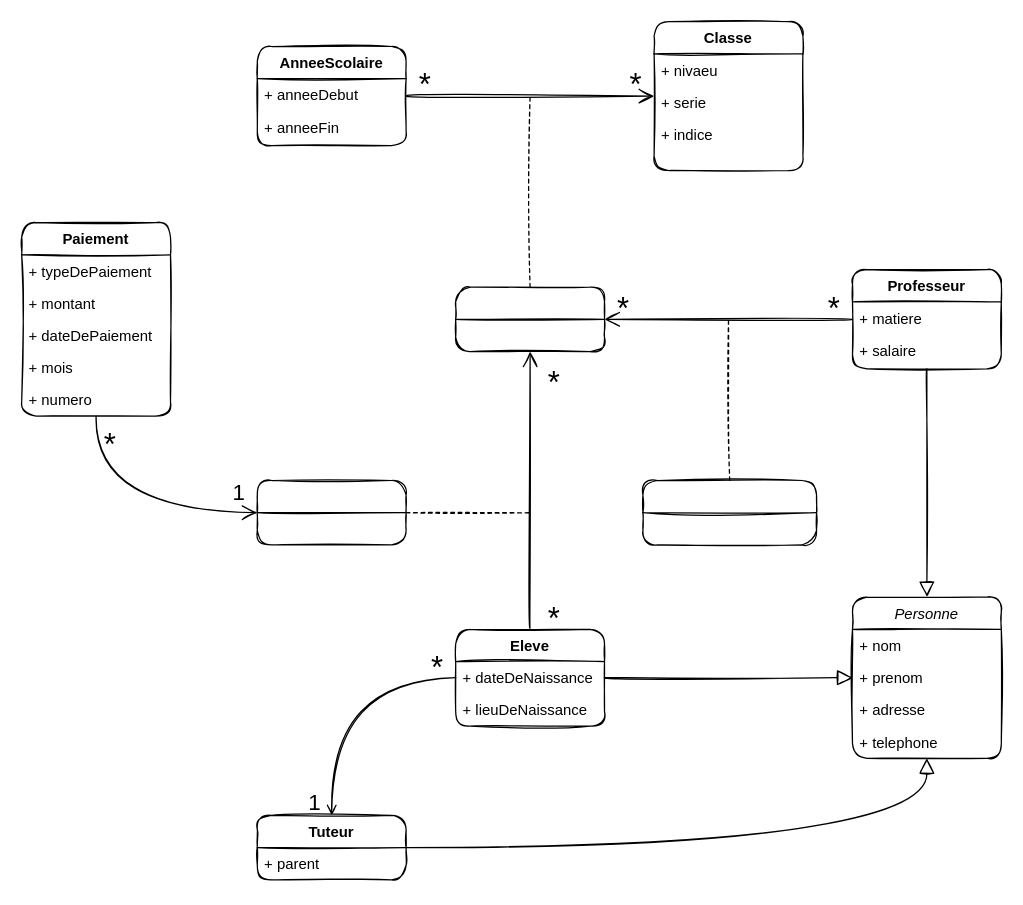
Some shapes in this 1023 by 905 pixel diagram are drawn without their labels. The shapes that lost their labels are listed below. From the top down, each one's centre as x and y in pixels, then its label:
[529,319]: AnneeClasse
[331,512]: EleveClasse
[729,512]: ProfesseurClasse
